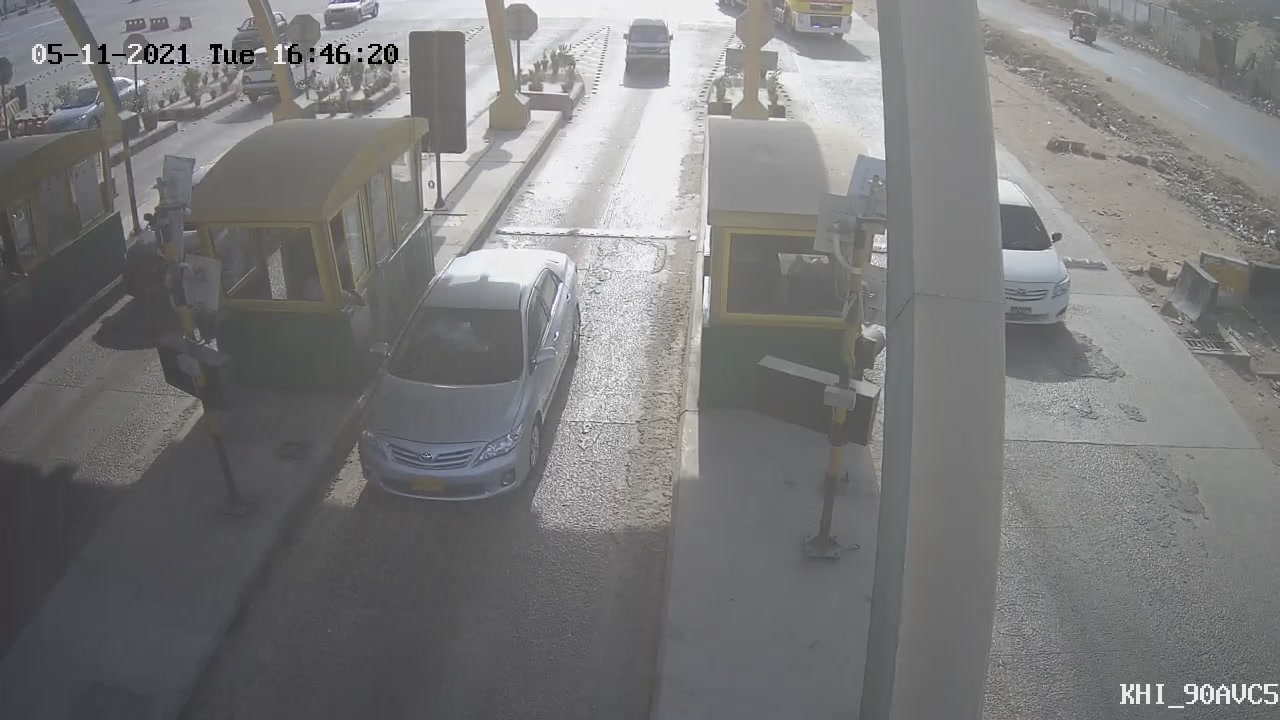F1: (338, 225, 598, 525)
